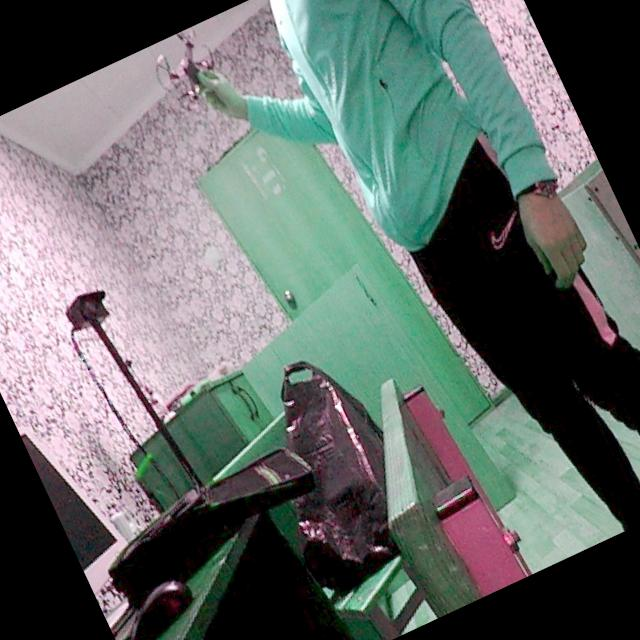drone: (140, 19, 244, 126)
